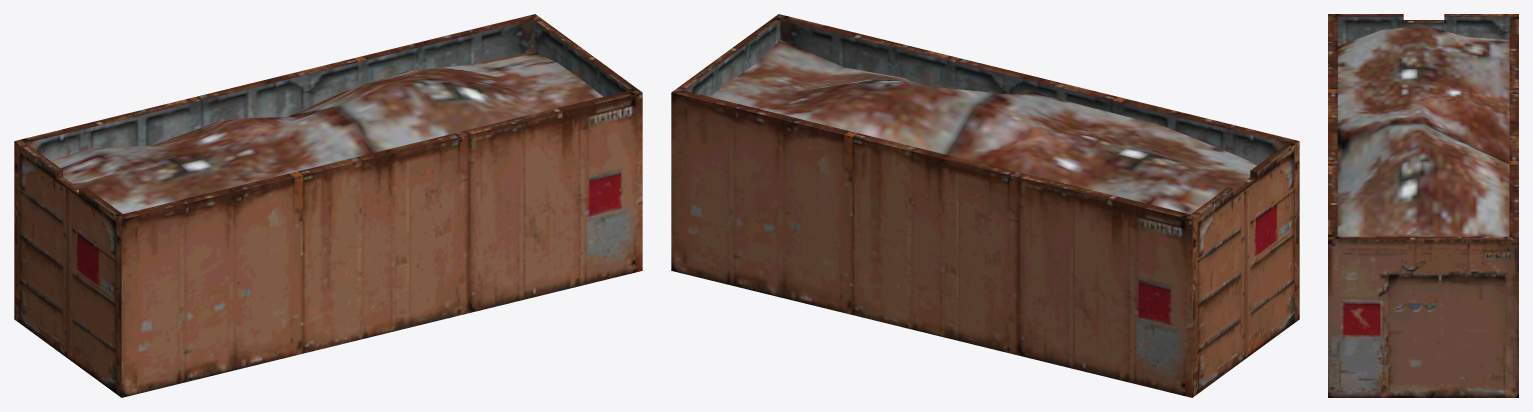
Rendered from Cargo2.fbx.
3 renders of one model, left to right at view 1: azimuth 30°, elevation 25°; view 2: azimuth 150°, elevation 25°; view 3: azimuth 270°, elevation 25°, orthographic. The views are drawn at different scales.
Visible parts, largest first — view 1: Cargo_2_empty, Cargo_2_full; view 2: Cargo_2_empty, Cargo_2_full; view 3: Cargo_2_empty, Cargo_2_full.
Boxes of the visible parts, <box> form: Cargo_2_empty: <box>14,14,642,397</box>; Cargo_2_full: <box>27,20,629,213</box>; Cargo_2_empty: <box>671,14,1299,397</box>; Cargo_2_full: <box>685,19,1285,214</box>; Cargo_2_empty: <box>1328,14,1518,397</box>; Cargo_2_full: <box>1337,17,1509,236</box>.
Bounding box in the file's own units: 494 × 176 × 176.
